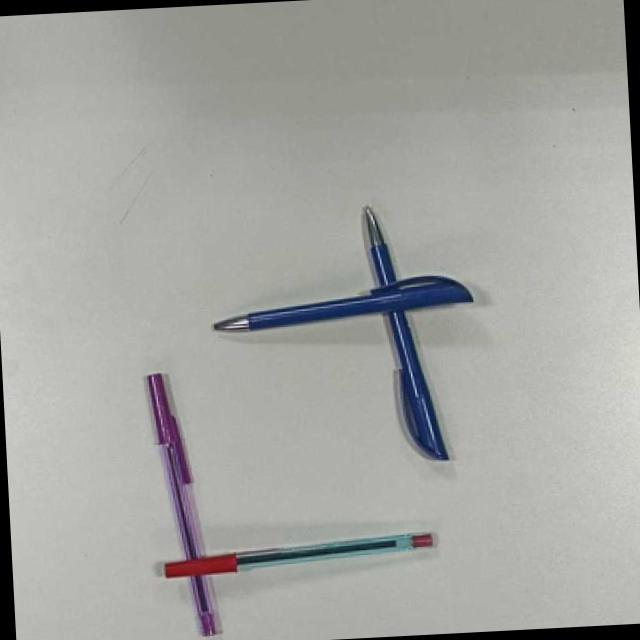caneta: (347, 205, 448, 468), (144, 371, 226, 638), (211, 269, 474, 337), (162, 528, 433, 579)
